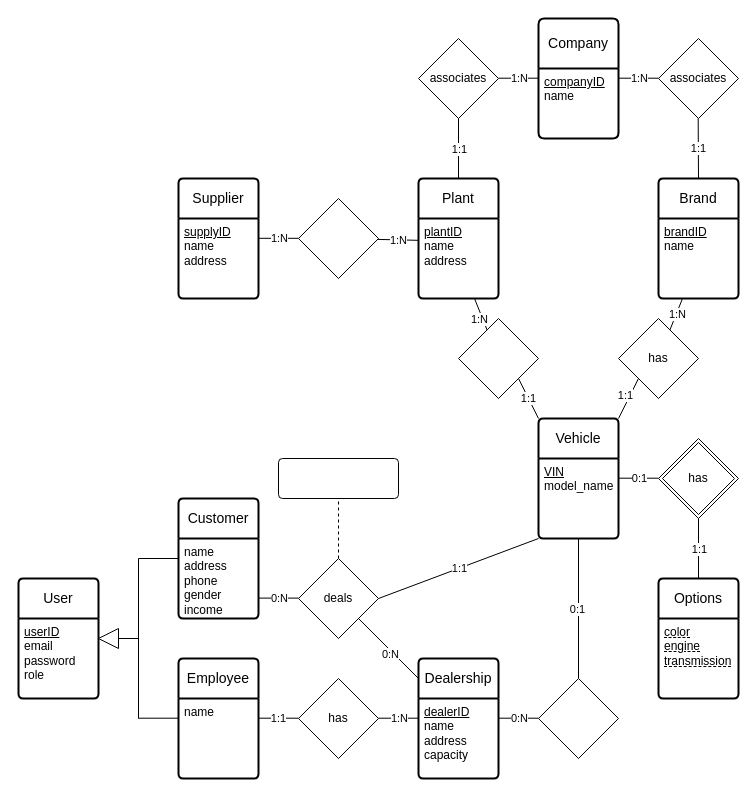
Some shapes in this 756 by 796 pixel diagram are drawn without their labels. Here are the shapes that lost their labels. From the top down, the centre of each, then its label:
(x=338, y=238): provides
(x=498, y=358): makes
(x=338, y=478): dealID date_of_deal
(x=578, y=718): stocks
